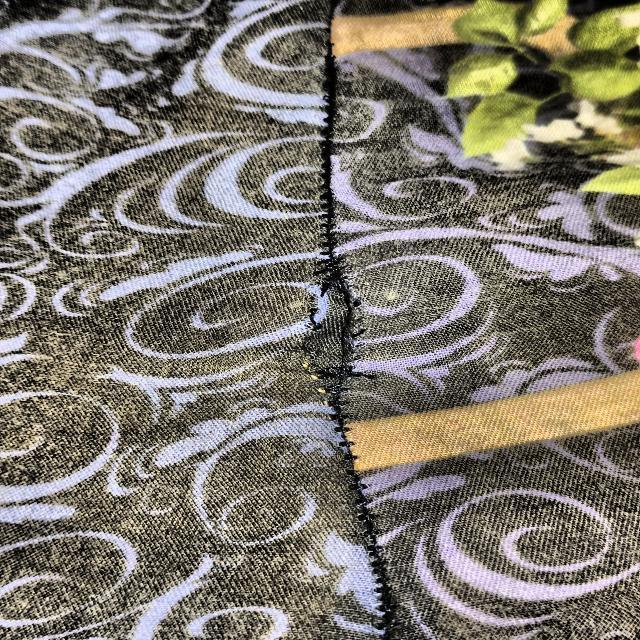gray stitch: (222, 241, 484, 470)
